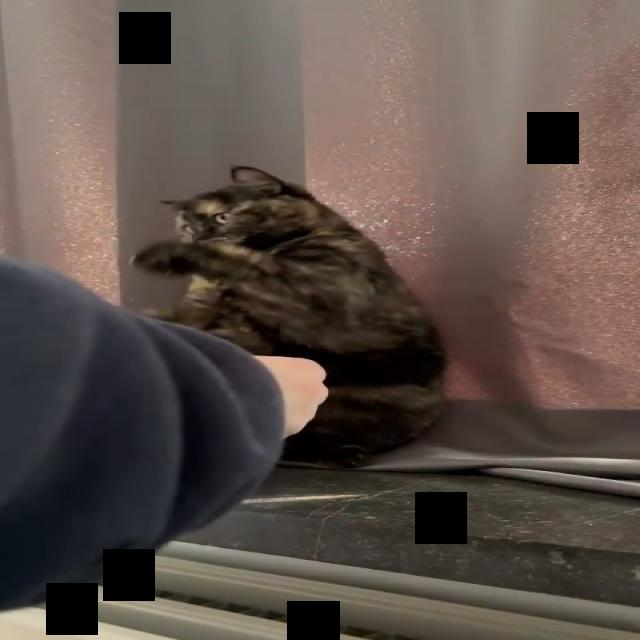authorized: (129, 164, 448, 470)
